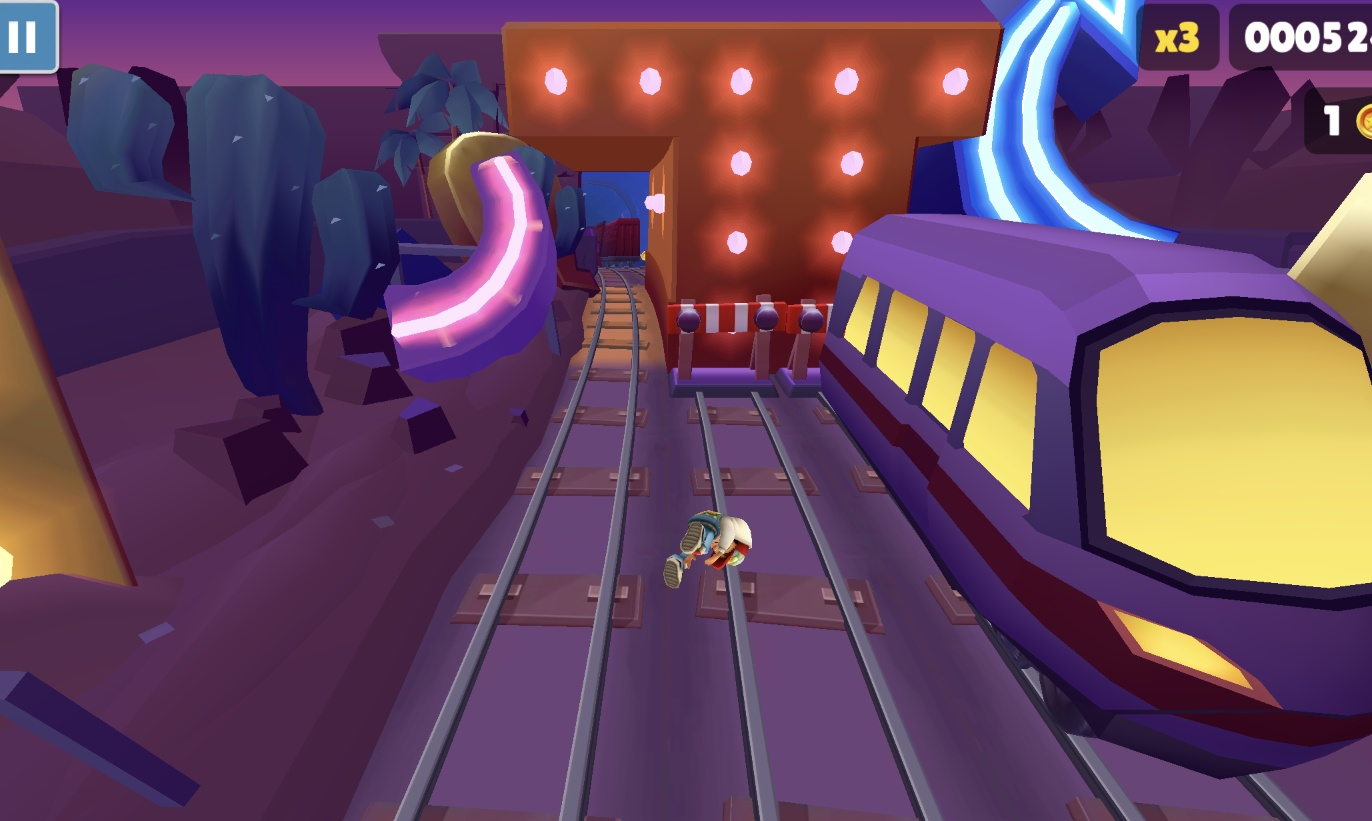ground_barrier: (663, 298, 787, 396), (776, 299, 835, 396)
pillar: (644, 136, 935, 375)
train: (824, 210, 1372, 771), (592, 216, 643, 269)
